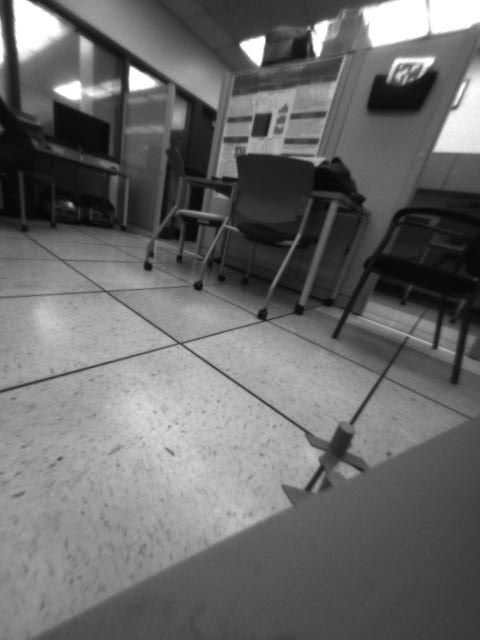X: (299, 419, 371, 475)
